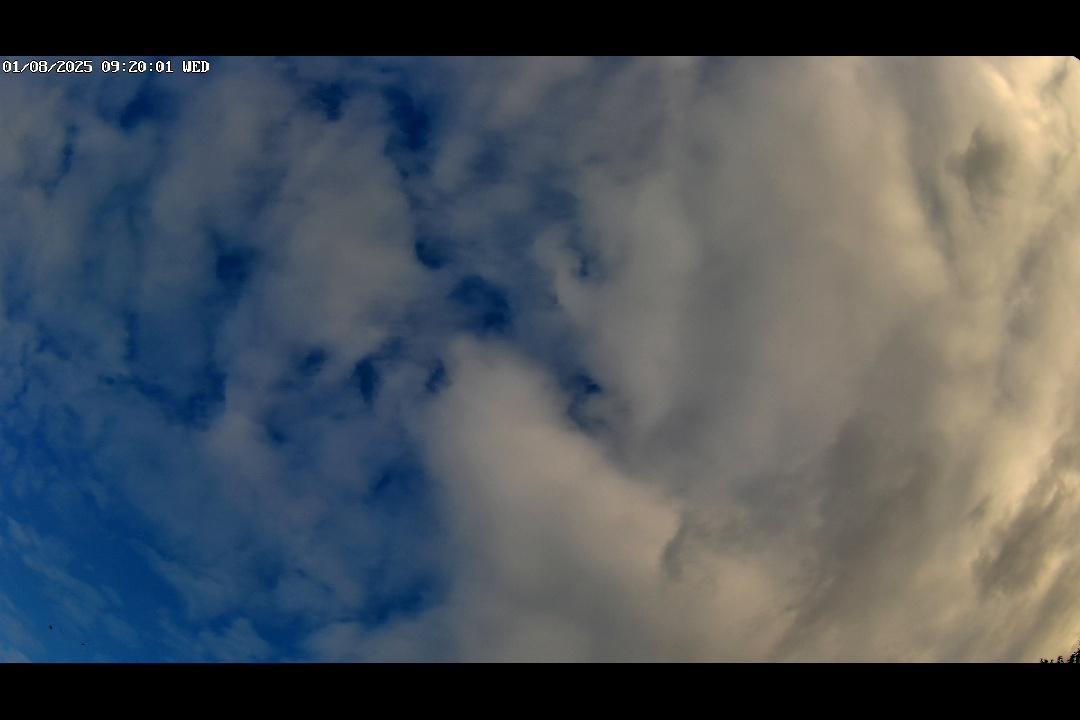WildLife: (36, 622, 64, 635), (77, 640, 90, 648)
